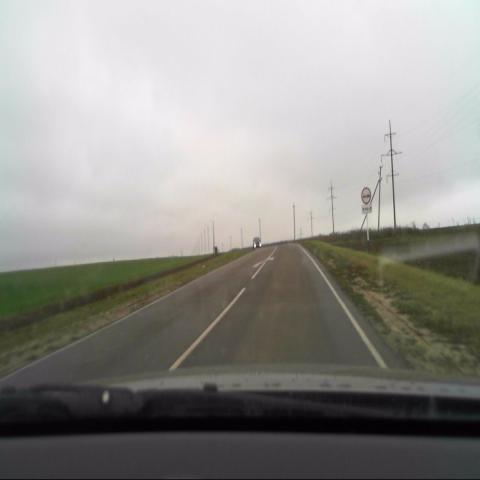3_20: (362, 187, 372, 203)
